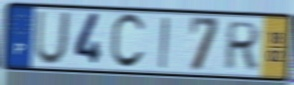4: (71, 10, 107, 70)
7: (188, 15, 222, 74)
C: (108, 12, 148, 72)
I: (157, 15, 170, 71)
R: (222, 20, 263, 72)
U: (32, 10, 72, 67)
